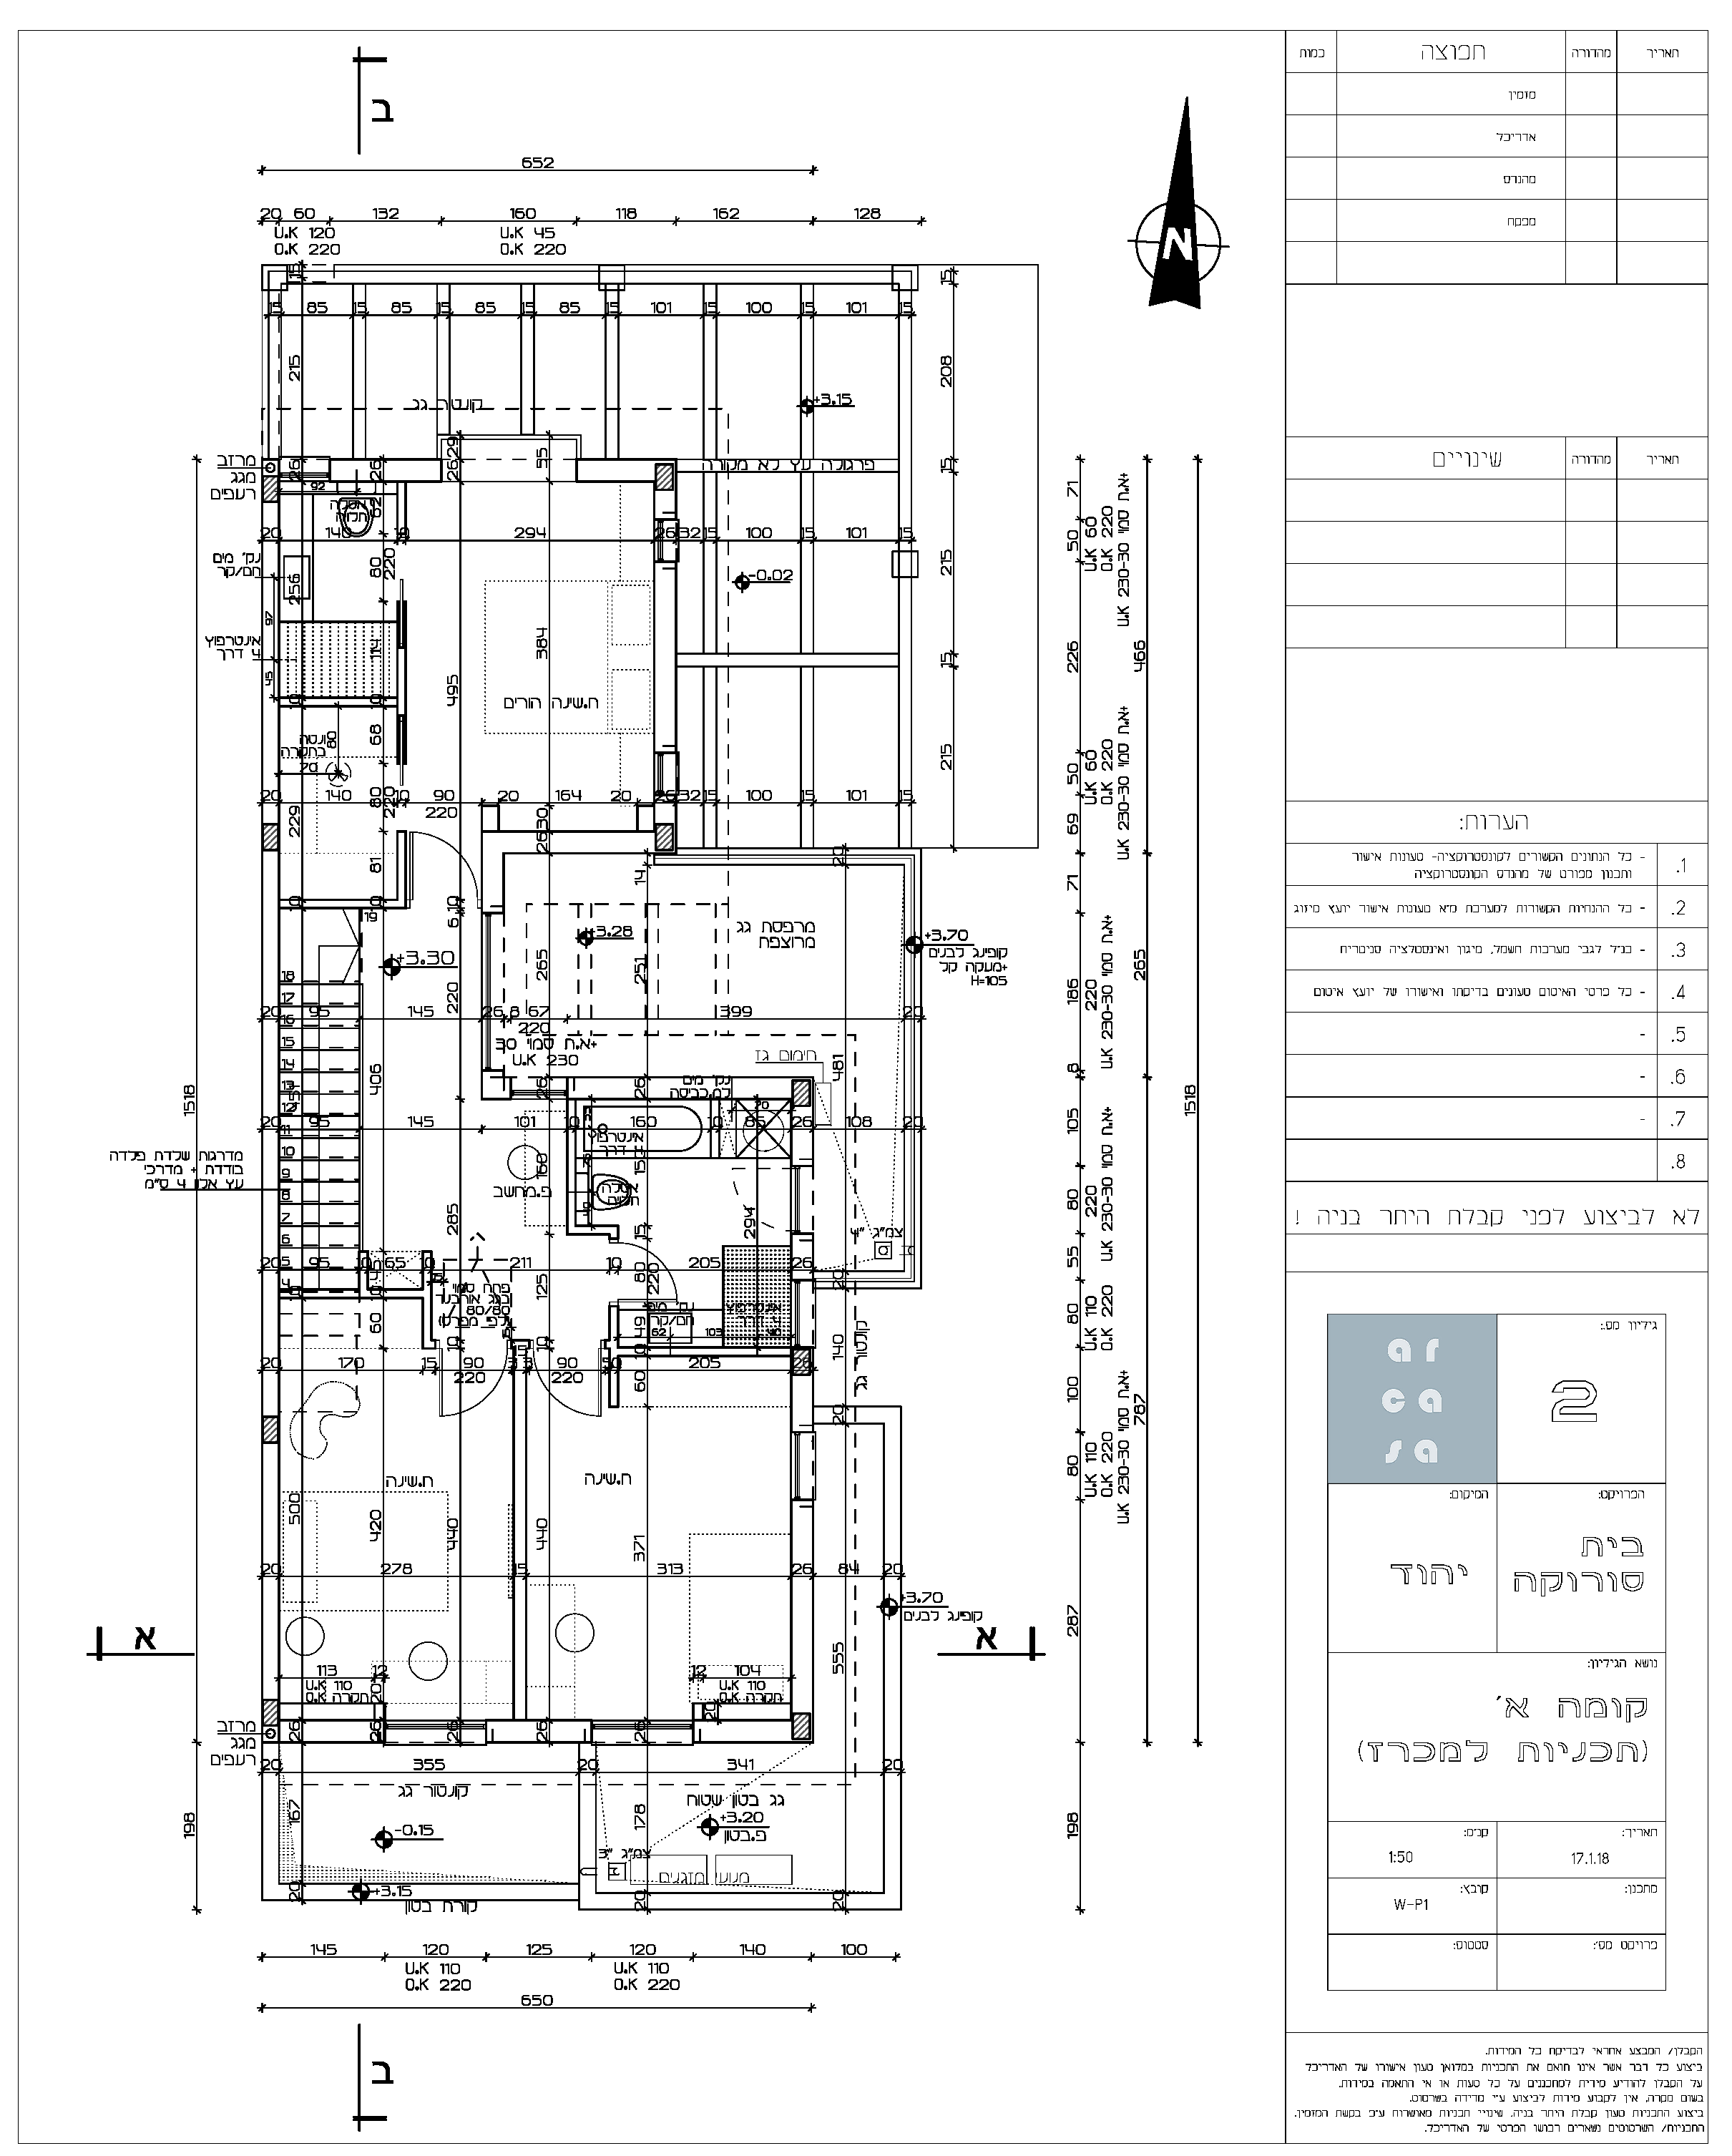door: (406, 820, 481, 891)
wall: (654, 573, 675, 740), (677, 654, 896, 666), (900, 580, 912, 783), (900, 320, 912, 521), (656, 1893, 829, 1907), (263, 850, 279, 1000), (884, 1776, 901, 1910), (884, 1405, 900, 1553), (799, 666, 813, 783), (802, 548, 813, 652), (861, 1407, 900, 1423)
window: (790, 1430, 806, 1499), (384, 1719, 442, 1737)
